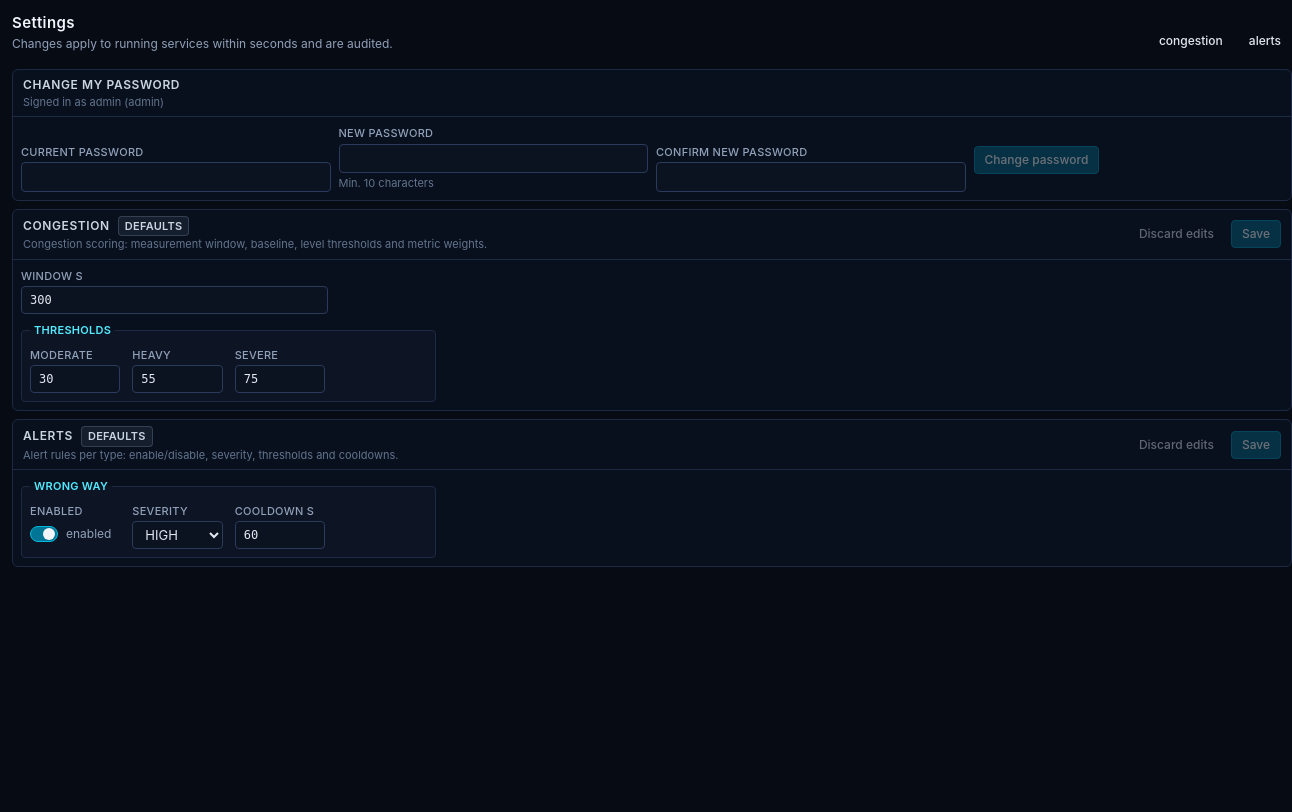
Settings page › blocks negative numbers client-side and shows server validation errors
Expected: the text "Changes apply to running services" is shown, [12,36,393,50]
Step 1. Replace the text in the number field with id "set-alerts-WRONG_WAY-cooldown_s" with "-5" → (280, 535), box [235,521,325,549]
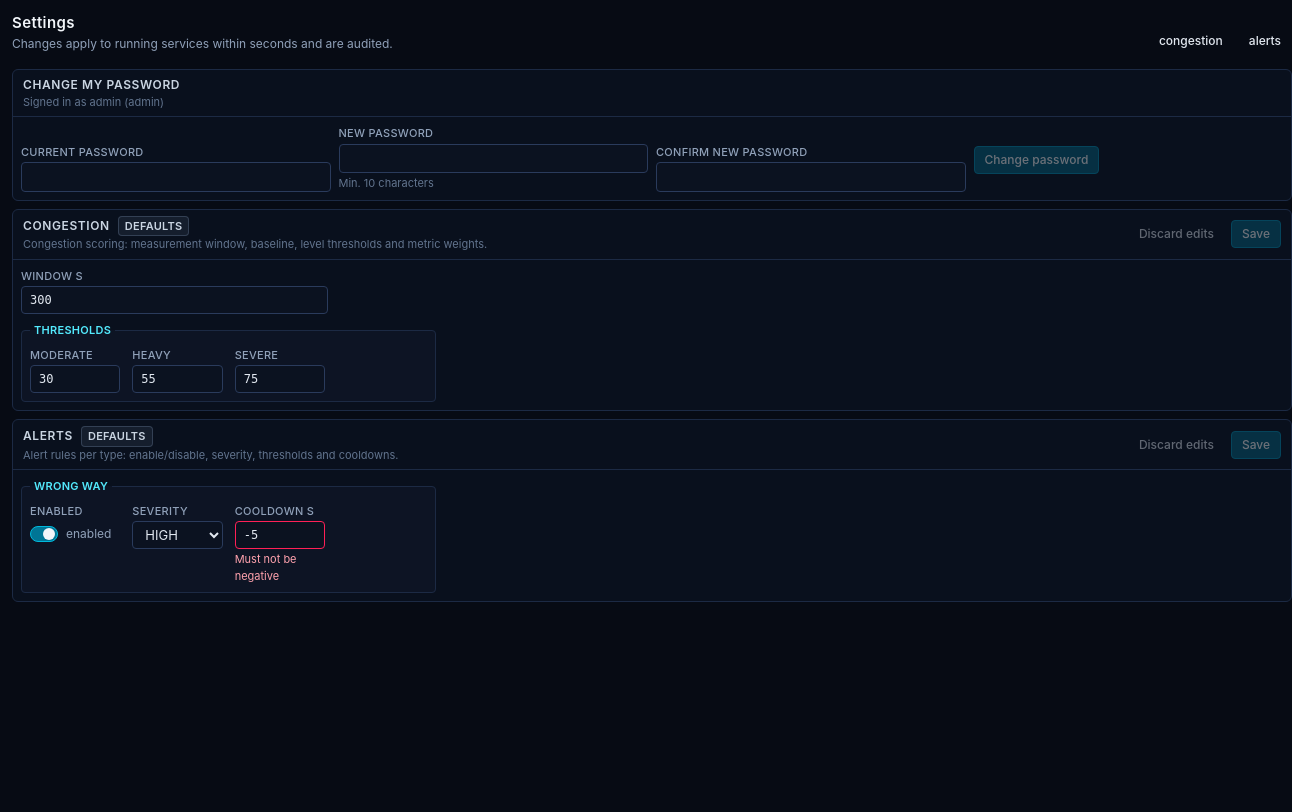
Expected: the 2nd button "Save" is disabled, [1231,430,1281,458]
Now the text "Must not be negative" is shown, box [235,552,297,582]
Step 2. Replace the text in the number field with id "set-alerts-WRONG_WAY-cooldown_s" with "90" → (280, 535), box [235,521,325,549]
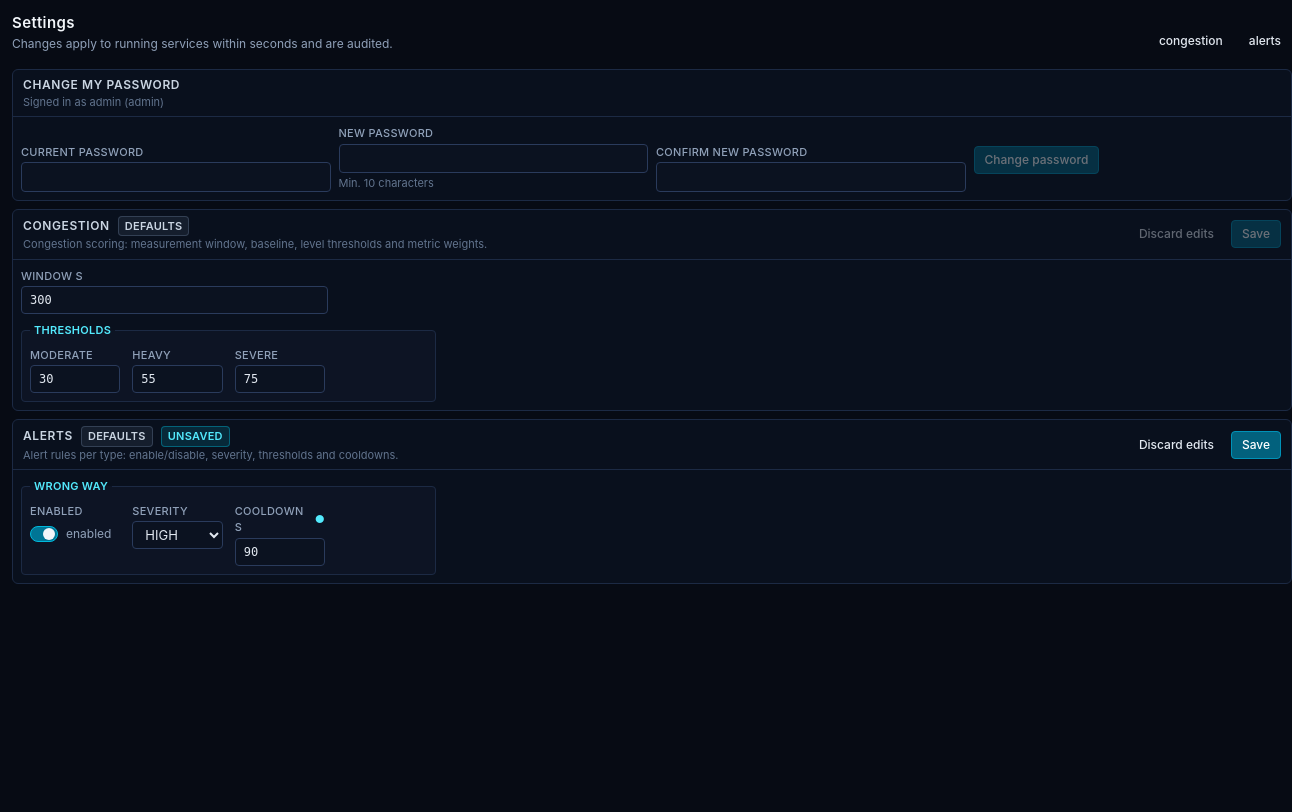
Step 3. Click the button "Save" in the row of "unsaved" → (1256, 444), box [1231,430,1281,458]
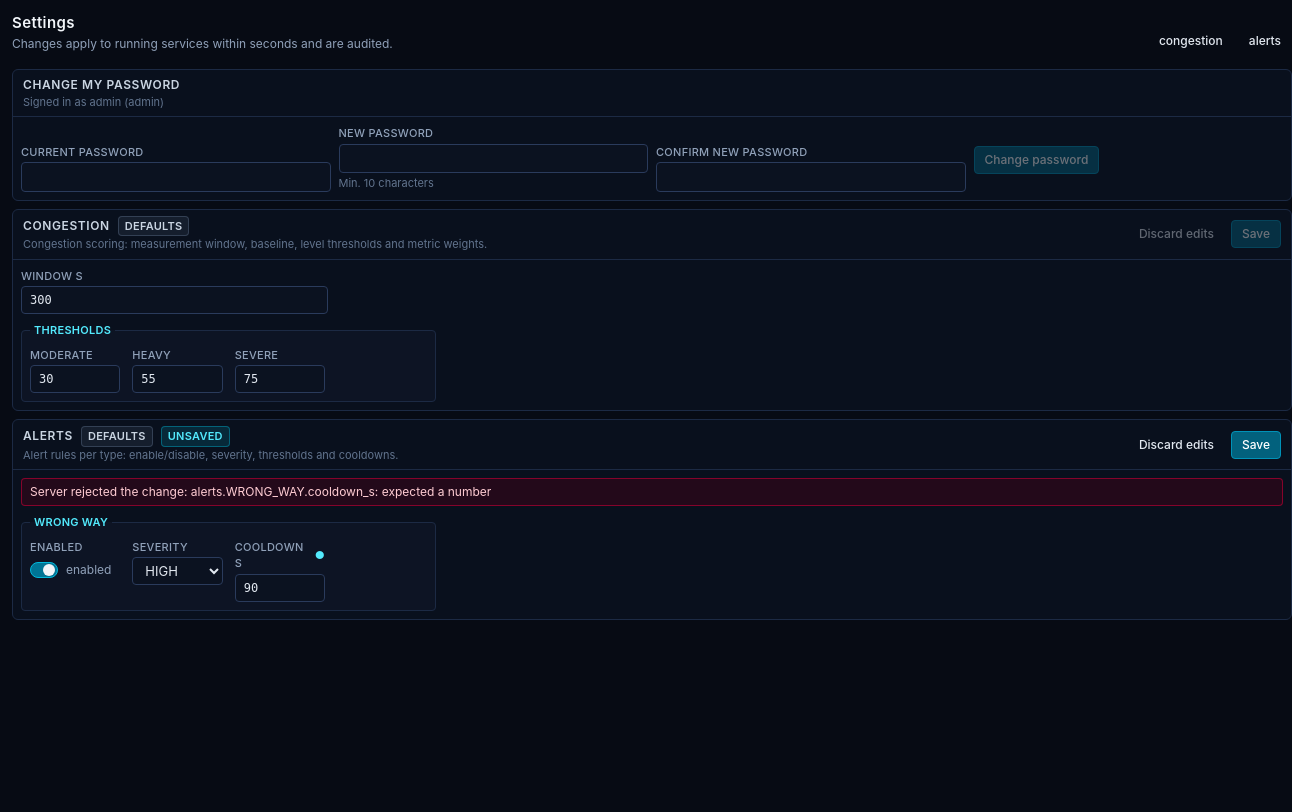
Now the message shows "expected a number", box [191,484,491,499]
